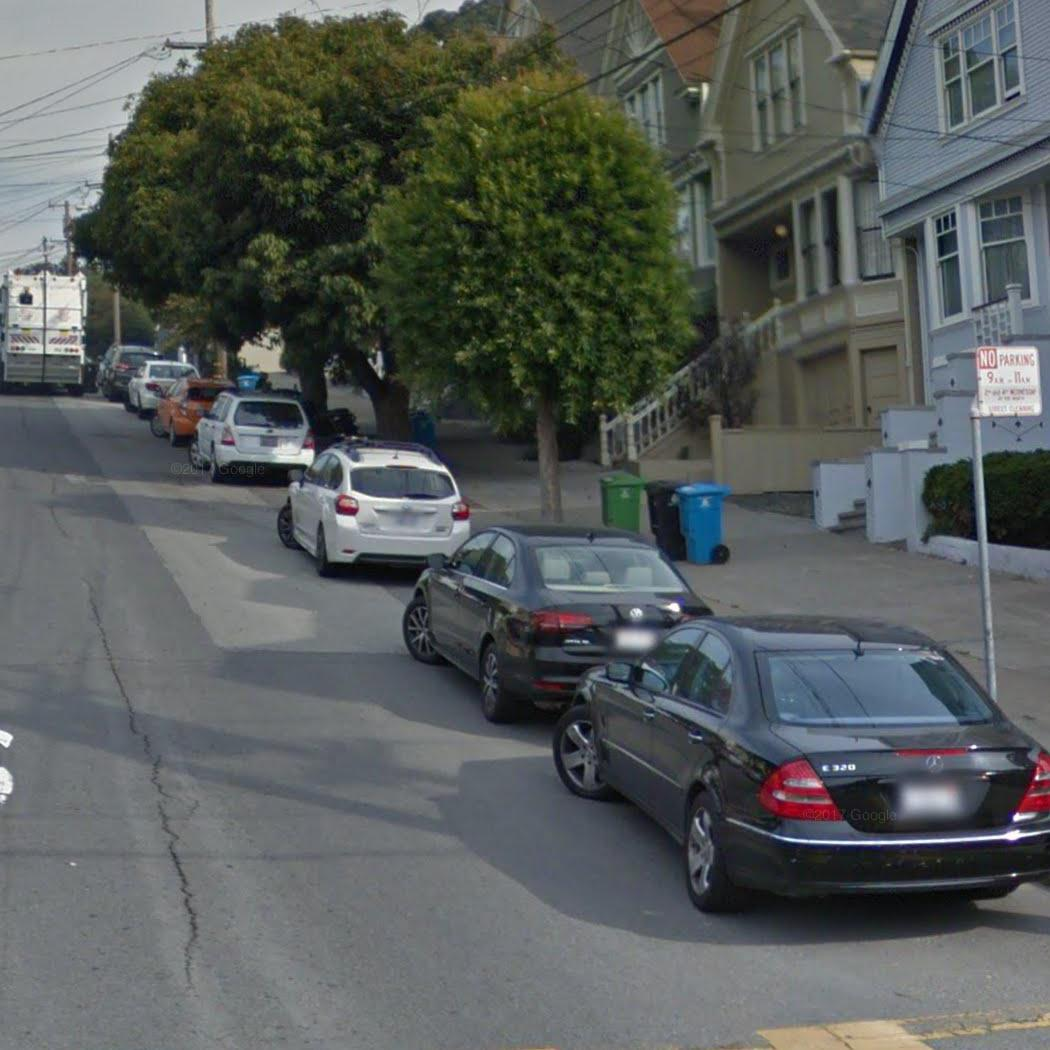No Parking: (973, 344, 1046, 419)
